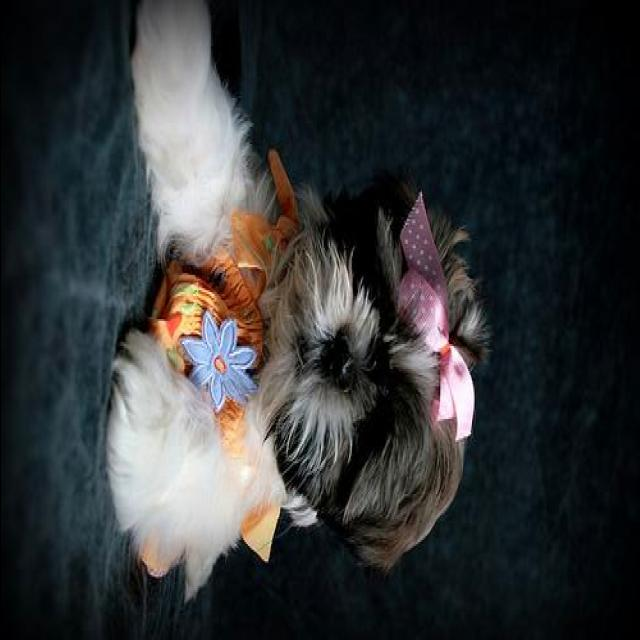shih_tzu: (106, 4, 486, 608)
